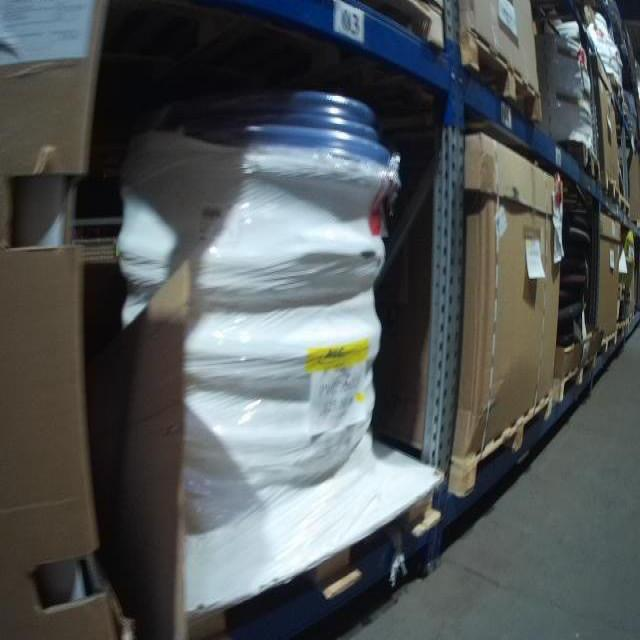pallet: (155, 427, 447, 637), (413, 369, 560, 501), (460, 30, 547, 127), (323, 2, 450, 44), (548, 342, 599, 408), (553, 139, 603, 186), (586, 325, 617, 375), (600, 176, 620, 211), (619, 188, 632, 226)
